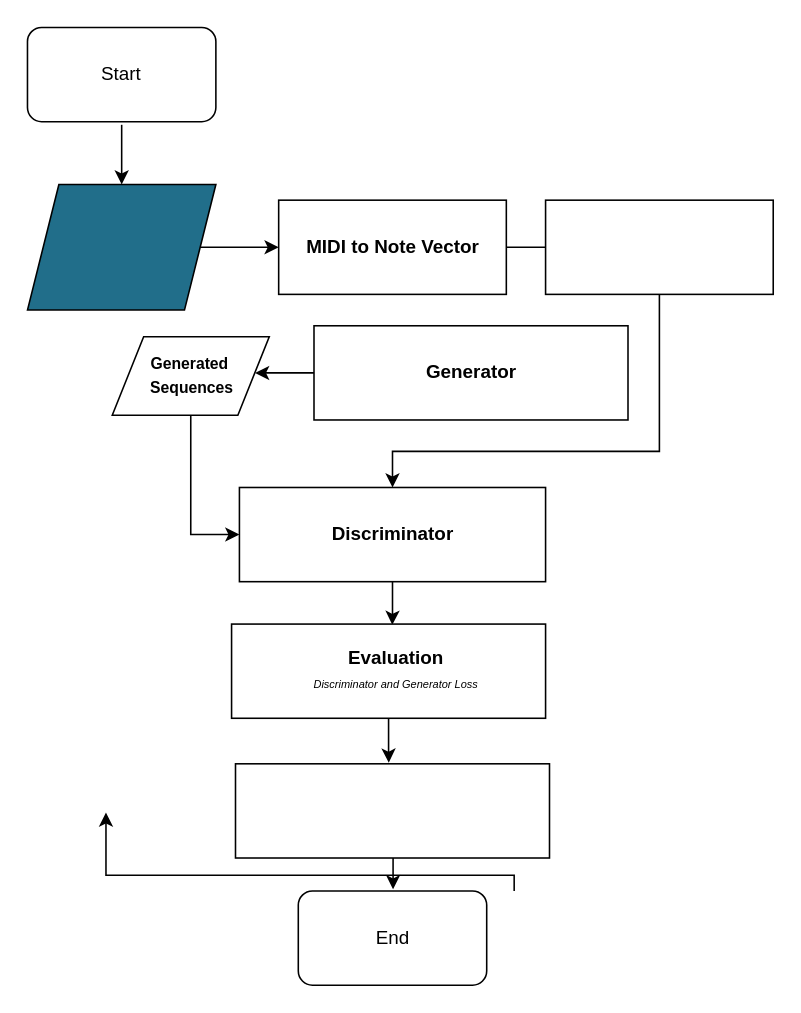
Image size: 801x1013. Some labels were removed from this diagram. The centre of each missing label's shape, as x and y in pixels:
MIDI Files: point (121, 246)
MIDI Generation: point (392, 810)
Note Sequences (Nx32x4): point (658, 246)
